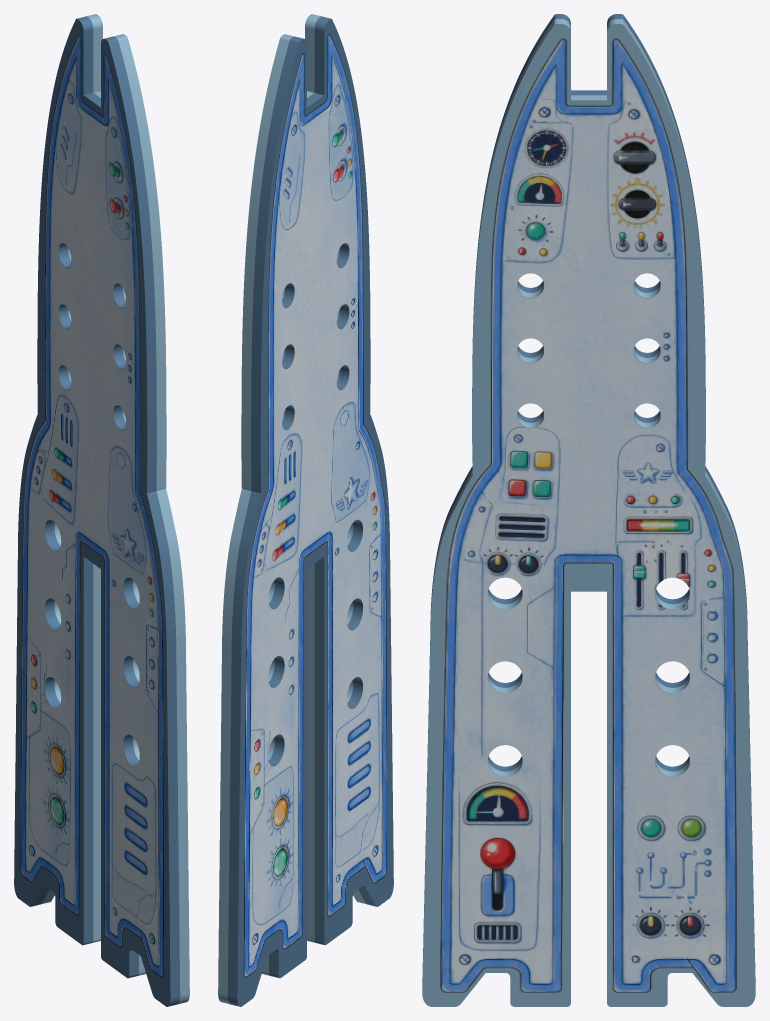
Rendered from connector-4.glb.
The picture shows the model from 3 angles, left to right: view 1: azimuth 30°, elevation 25°; view 2: azimuth 150°, elevation 25°; view 3: azimuth 270°, elevation 25°; orthographic projection. The views are drawn at different scales.
Visible parts, largest first — view 1: connector-4; view 2: connector-4; view 3: connector-4.
Boxes of the visible parts, x1=… form: connector-4: x1=14, y1=14, x2=189, y2=1006; connector-4: x1=218, y1=14, x2=393, y2=1006; connector-4: x1=422, y1=14, x2=755, y2=1006.
Bounding box in the file's own units: 24 × 1095 × 337.
4 materials, 2 textured.
